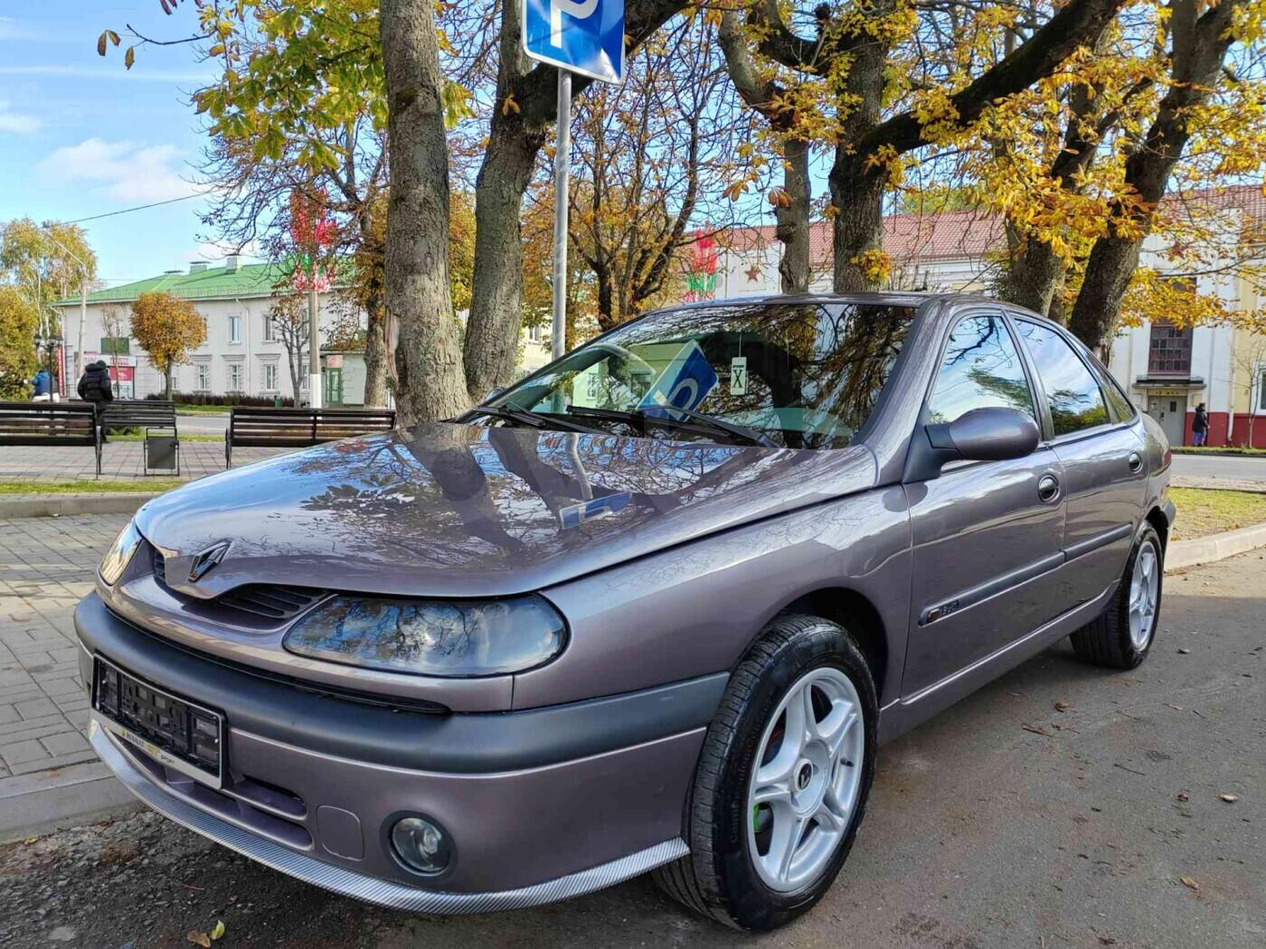Laguna_1998-2001: (71, 287, 1179, 949)
